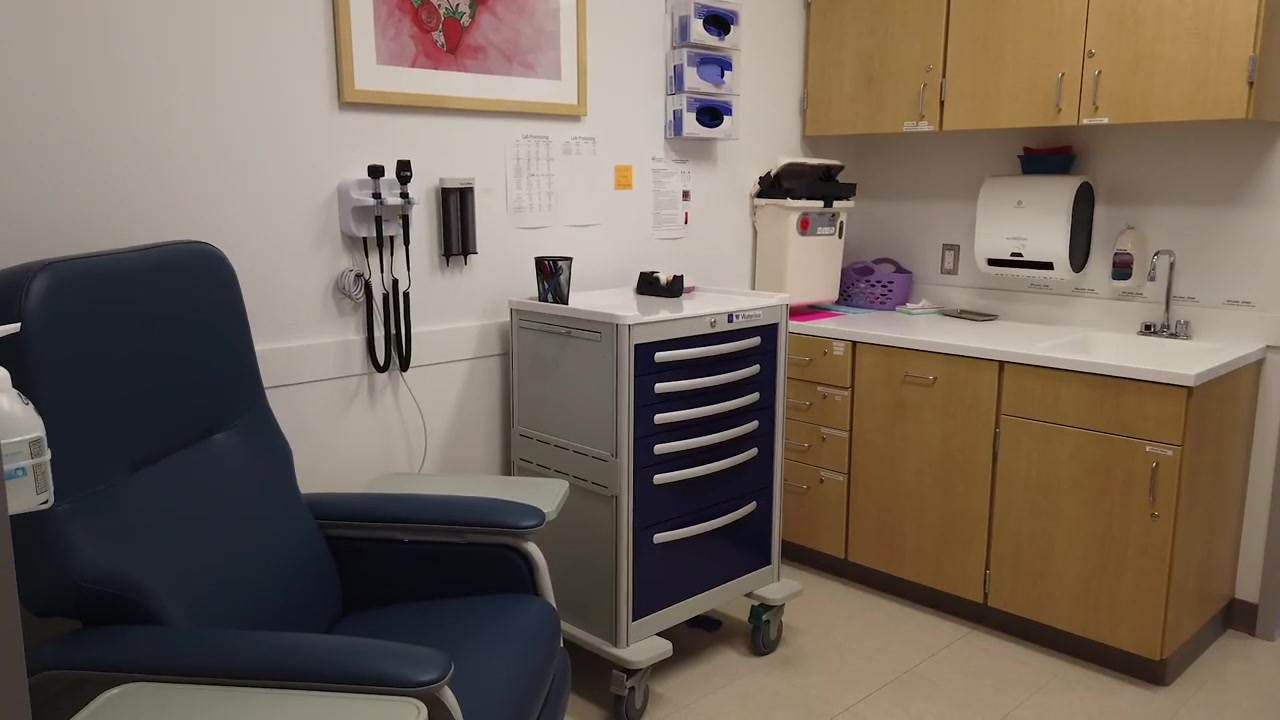cabinet: (804, 1, 1279, 142)
counter: (779, 300, 1269, 677)
countertop: (793, 300, 1272, 387)
dispenser: (973, 174, 1096, 279), (662, 1, 745, 144), (1, 320, 54, 516), (1104, 221, 1141, 291)
faucet: (1139, 246, 1194, 342)
handle: (651, 495, 764, 564), (643, 388, 772, 431), (637, 443, 763, 486), (643, 417, 763, 460), (646, 367, 770, 397), (648, 336, 773, 364), (907, 70, 940, 129), (1048, 62, 1077, 121), (1084, 62, 1108, 121), (1144, 457, 1168, 505), (901, 364, 940, 385), (783, 393, 814, 411), (786, 350, 820, 366), (783, 435, 815, 450), (780, 478, 810, 494)
light_switch: (940, 242, 960, 275)
medical_drawer: (504, 284, 804, 718)
sink: (1040, 333, 1280, 384)
sofa: (1, 240, 576, 720)
